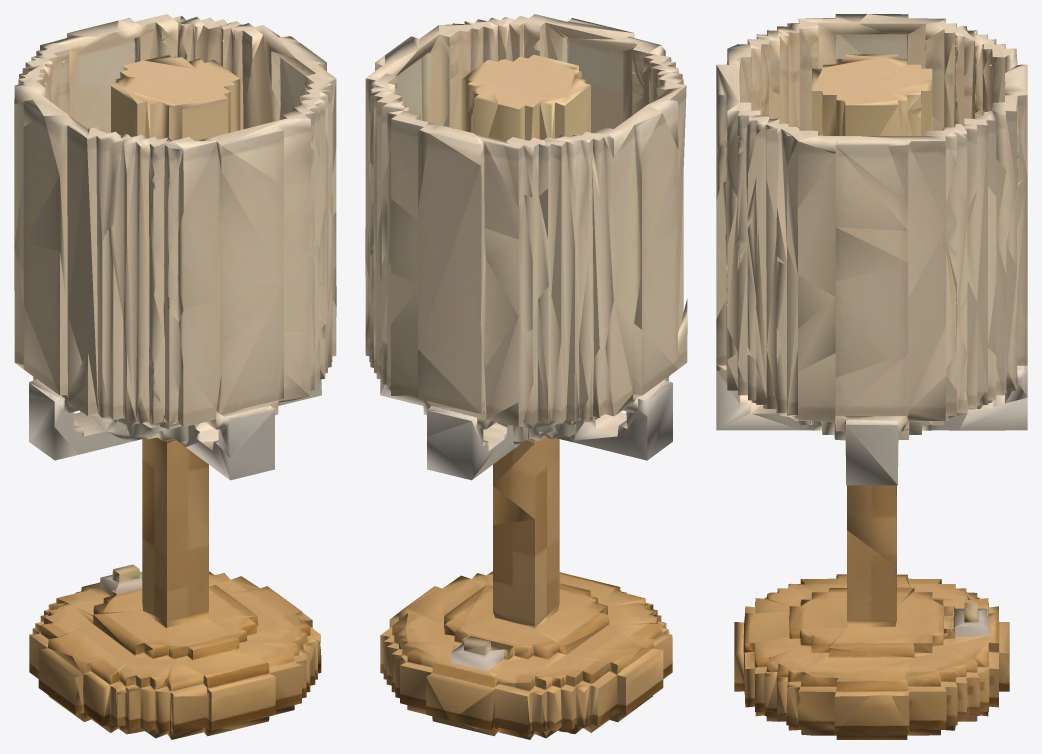
File: table_lamp.glb
3 views of the same model, side by side, from view 1: azimuth 30°, elevation 25°; view 2: azimuth 150°, elevation 25°; view 3: azimuth 270°, elevation 25° (orthographic).
Size of the model in its own units: 0.9309 by 2 by 0.9303.
Materials: 1 (1 with a texture image).
